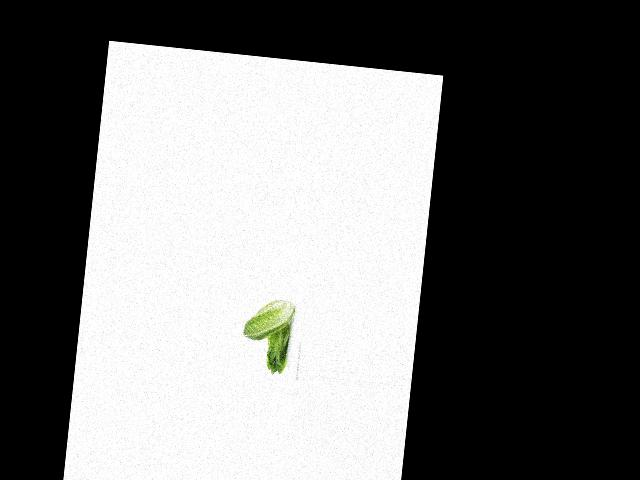lettuce: (259, 321, 297, 375)
